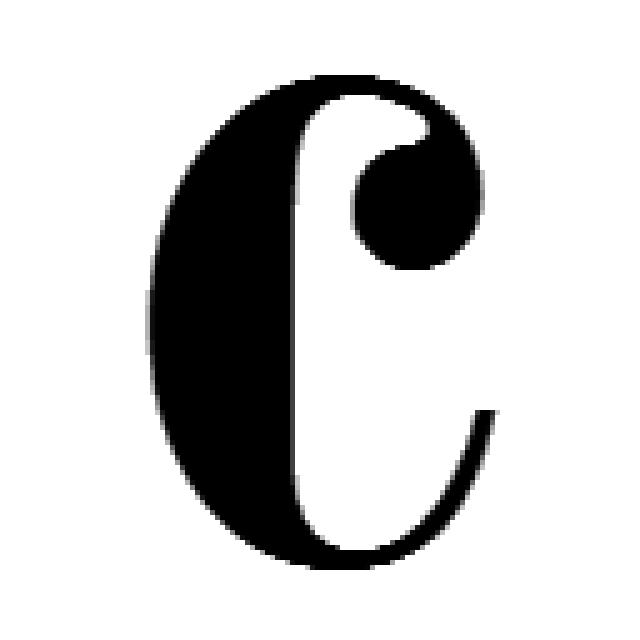C: (150, 75, 490, 570)
